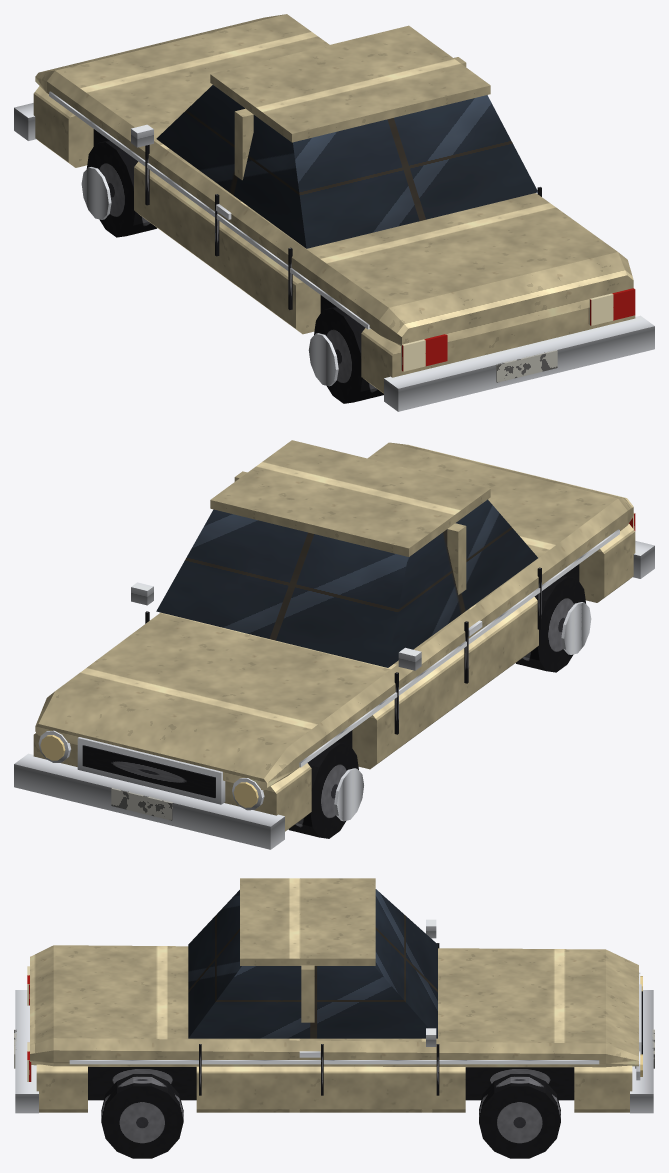
Rendered from Car_SedanCream.fbx.
3 views of the same model, one above another, from view 1: azimuth 30°, elevation 25°; view 2: azimuth 150°, elevation 25°; view 3: azimuth 270°, elevation 25° (orthographic). The views are drawn at different scales.
Parts seen in each view (by area): view 1: Car_SedanCream; view 2: Car_SedanCream; view 3: Car_SedanCream.
Part boxes in pixels (bbox=[...]): Car_SedanCream: bbox=[14, 14, 654, 411]; Car_SedanCream: bbox=[14, 440, 654, 849]; Car_SedanCream: bbox=[14, 878, 654, 1158].
Bounding box in the file's own units: 2.06 × 1.52 × 4.84.
